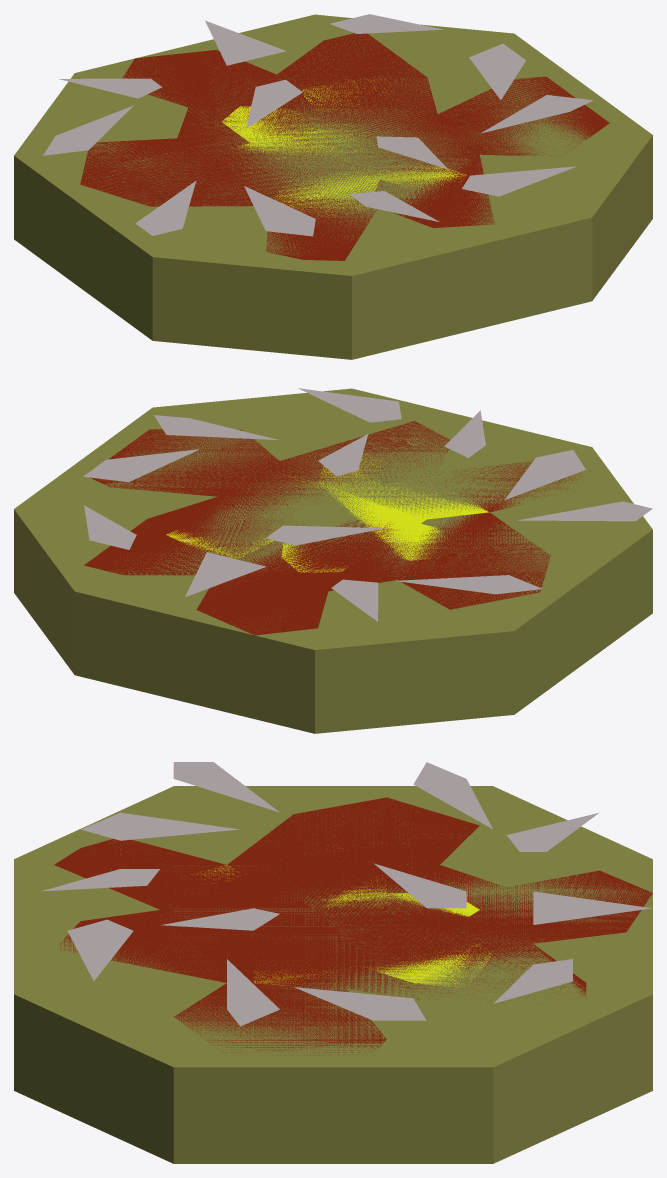
The model's file is inv_pineapple_pizza.obj.
3 views of the same model, one above another, from view 1: azimuth 30°, elevation 25°; view 2: azimuth 150°, elevation 25°; view 3: azimuth 270°, elevation 25° (orthographic). The views are drawn at different scales.
Bounding box in the file's own units: 0.3906 × 0.0781 × 0.375.
